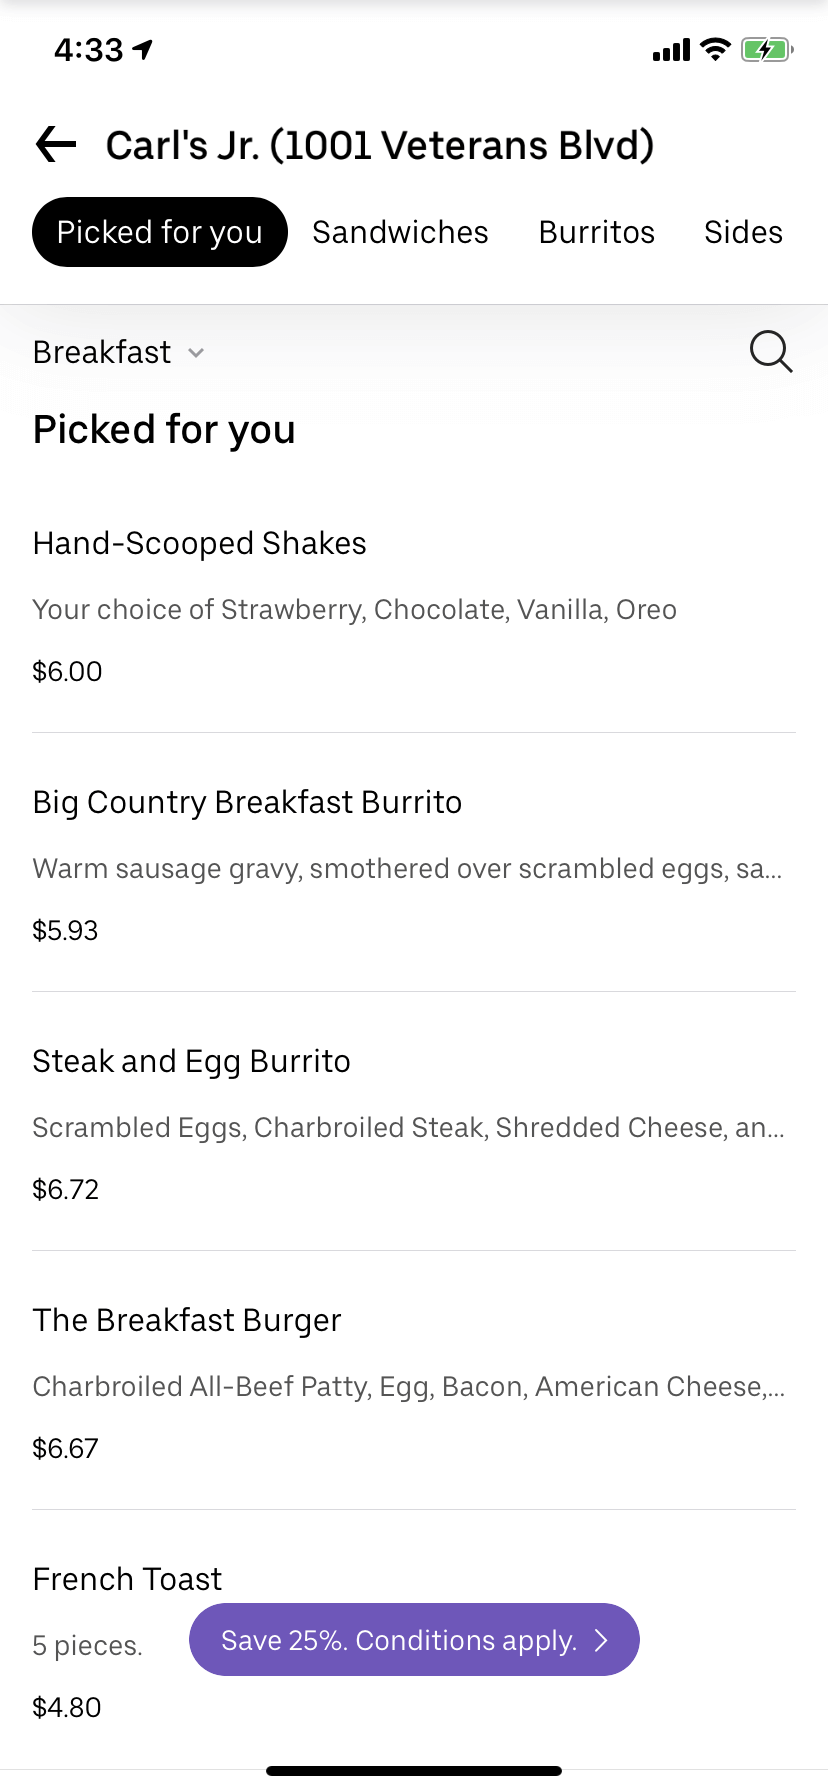Buttons: (10, 306, 233, 389), (5, 93, 99, 184), (725, 313, 809, 390)
FAB (Floating Action Button): (188, 1593, 646, 1694)
